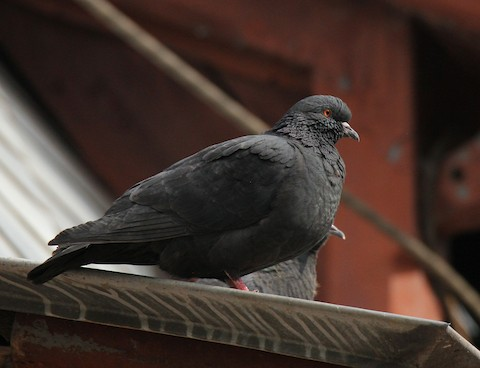pigeon: (26, 90, 363, 297)
